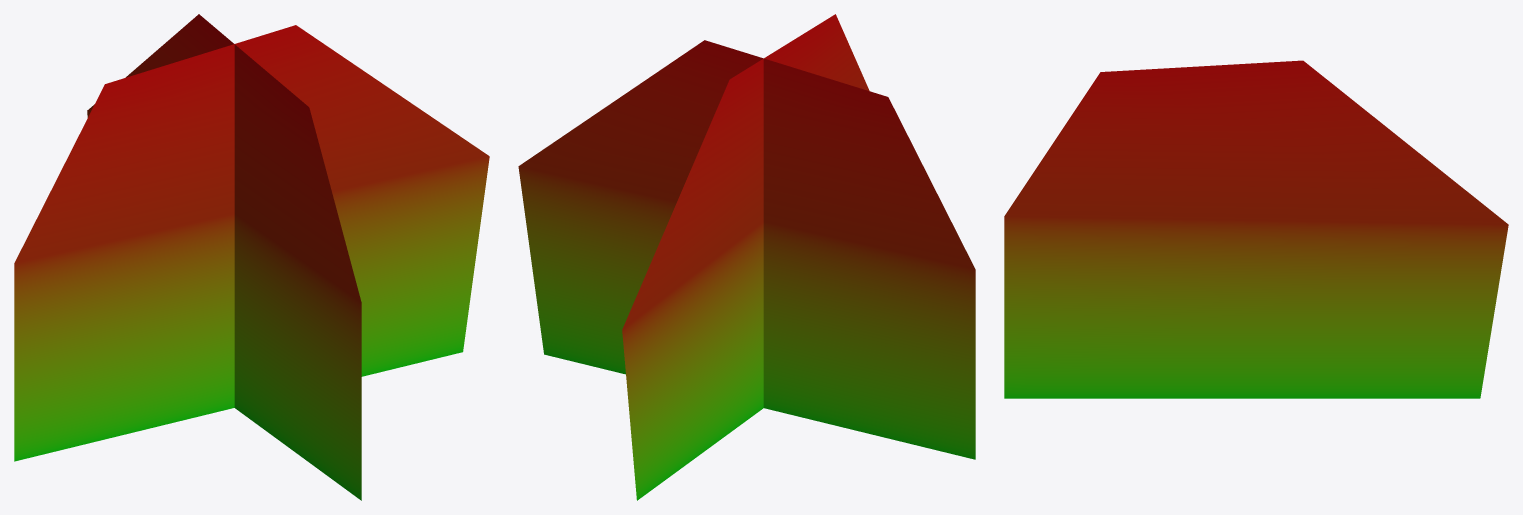
File: Bird Of Paradise_LOD5_Var2_wfypeifha.fbx
The picture shows the model from 3 angles, left to right: view 1: azimuth 30°, elevation 25°; view 2: azimuth 150°, elevation 25°; view 3: azimuth 270°, elevation 25°; orthographic projection. The views are drawn at different scales.
Parts seen in each view (by area): view 1: _4fjl_Var2_LOD5; view 2: _4fjl_Var2_LOD5; view 3: _4fjl_Var2_LOD5.
Part boxes in pixels (left/top/right/bottom): _4fjl_Var2_LOD5: left=14, top=14, right=489, bottom=500; _4fjl_Var2_LOD5: left=518, top=14, right=975, bottom=500; _4fjl_Var2_LOD5: left=1004, top=60, right=1508, bottom=398.
Size of the model in its own units: 268 by 198 by 268.
